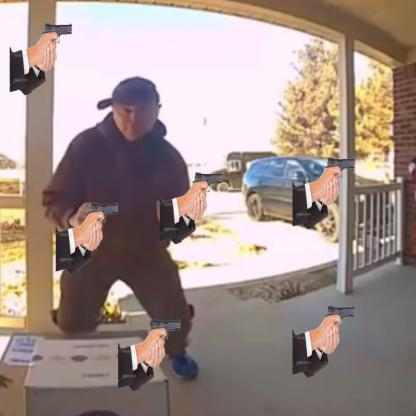handgun: (145, 314, 188, 358), (322, 154, 359, 204), (321, 298, 362, 342), (191, 168, 228, 210), (36, 19, 78, 56), (81, 199, 120, 235)
